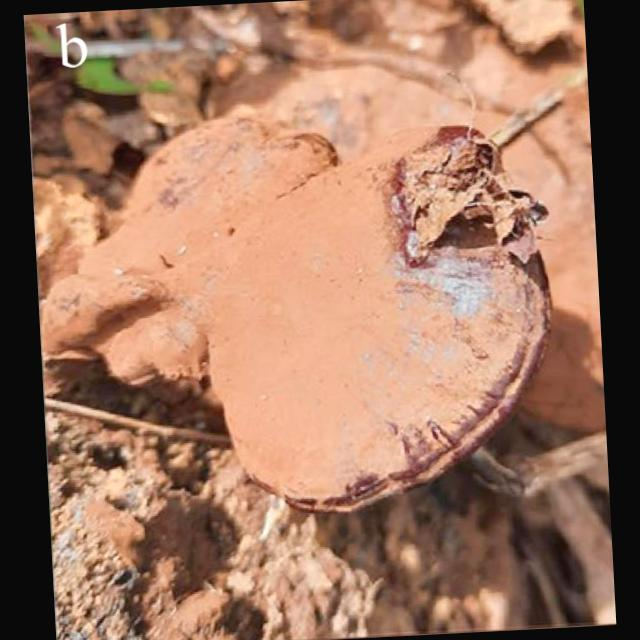ganoderma: (90, 96, 568, 532)
